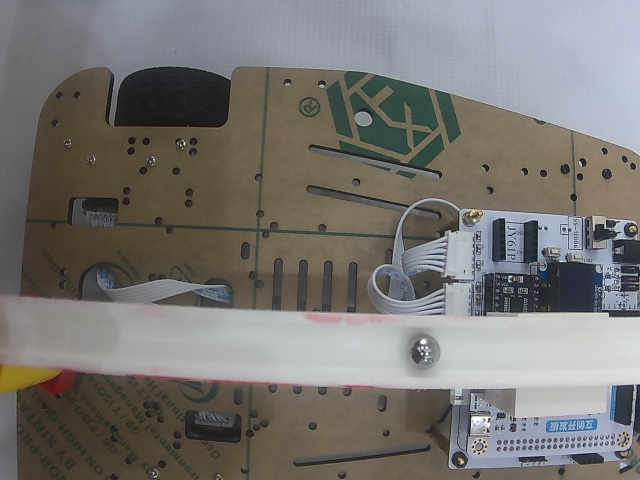steelball: (407, 334, 440, 368)
